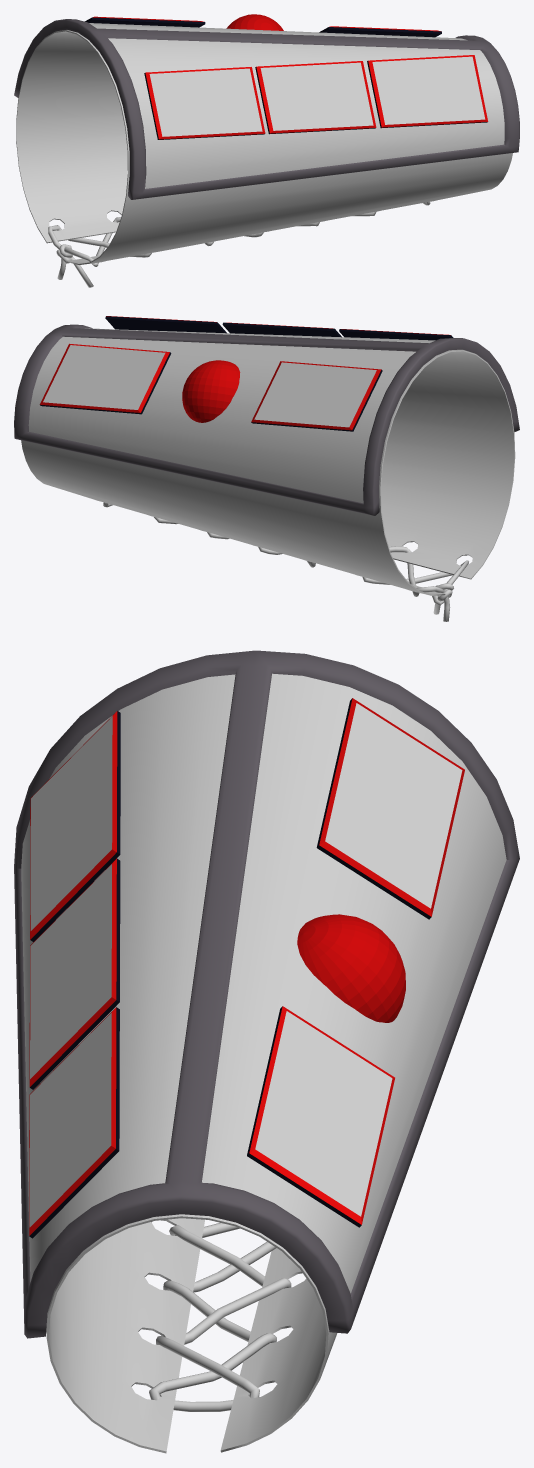
File: bracer_fiver.obj
3 views of the same model, one above another, from view 1: azimuth 30°, elevation 25°; view 2: azimuth 150°, elevation 25°; view 3: azimuth 270°, elevation 25° (orthographic). The views are drawn at different scales.
Parts seen in each view (by area): view 1: bracer_fiver_body; view 2: bracer_fiver_body; view 3: bracer_fiver_body.
Boxes of the visible parts, left/top/right/bottom form: bracer_fiver_body: left=14, top=14, right=519, bottom=287; bracer_fiver_body: left=14, top=316, right=519, bottom=621; bracer_fiver_body: left=14, top=650, right=519, bottom=1453.
Size of the model in its own units: 0.2103 by 0.1251 by 0.114.
